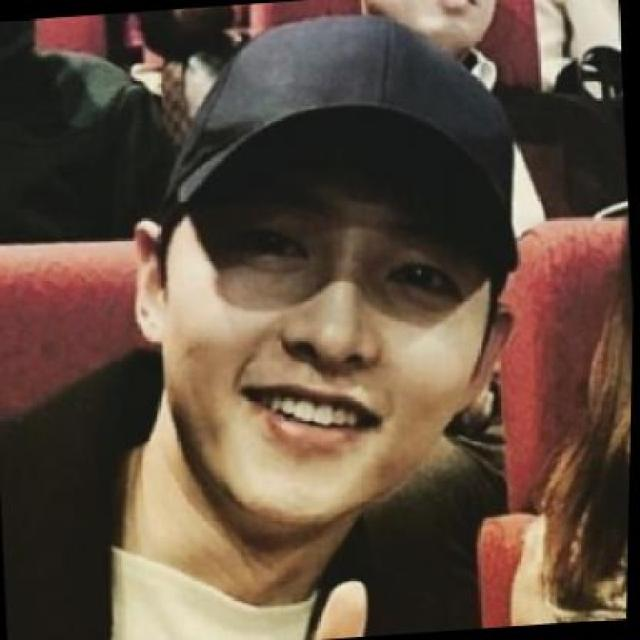hat: (158, 15, 524, 278)
